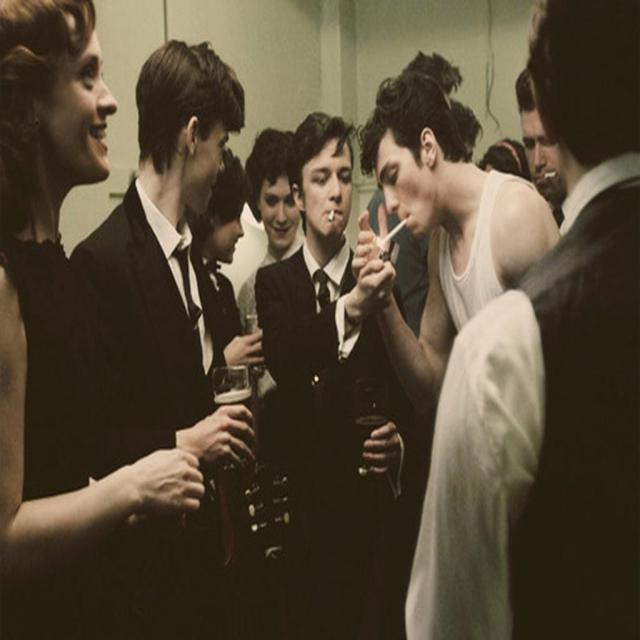smoking: (372, 71, 445, 282), (508, 88, 578, 204), (296, 130, 349, 244)
